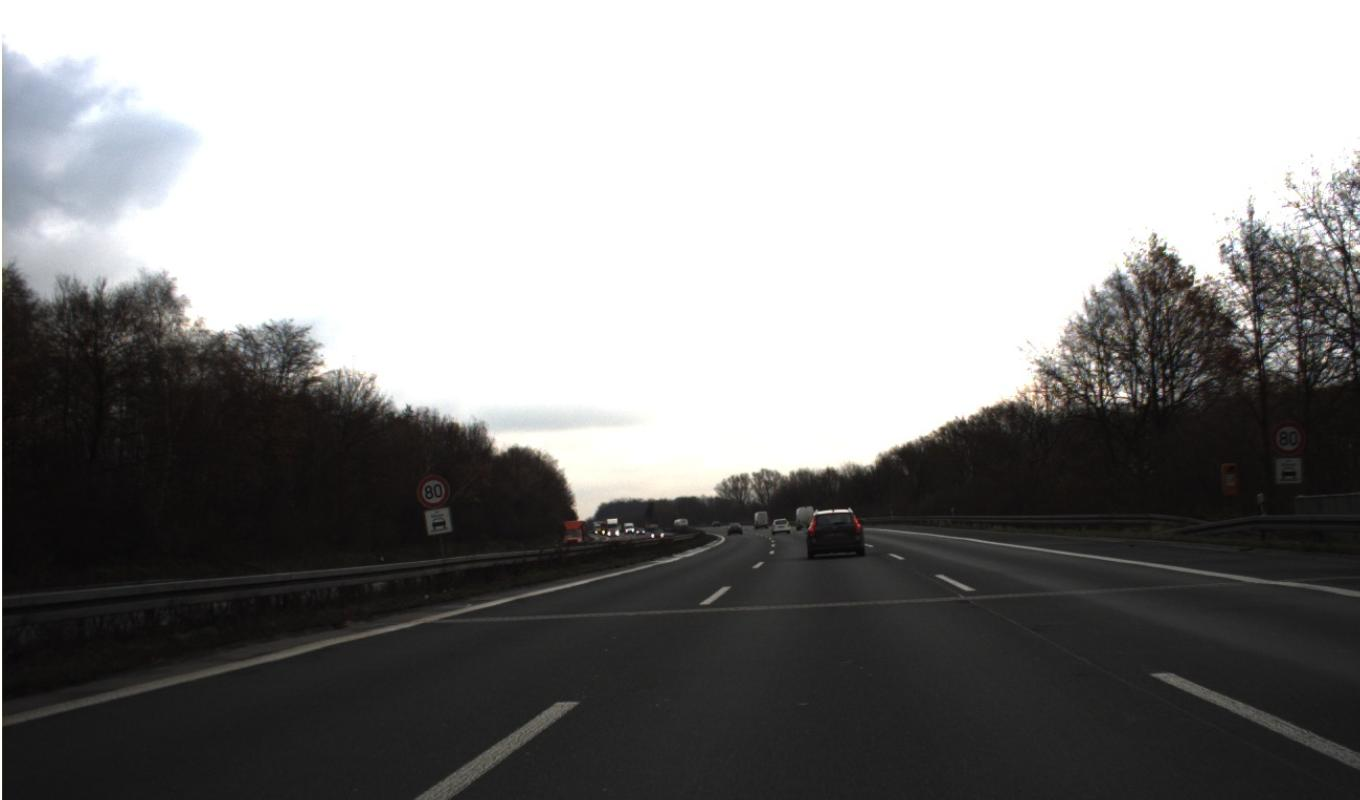NO-speed limit 80: (414, 418, 1305, 509)
